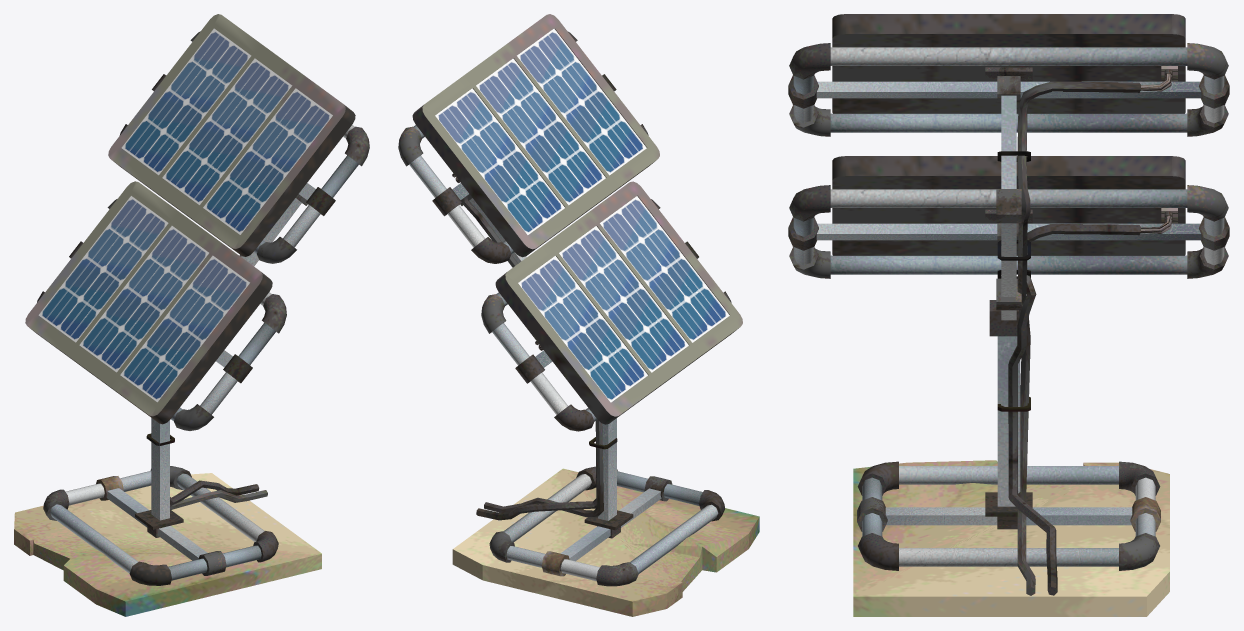
The model's file is solarStation1-2.glb.
3 renders of one model, left to right at view 1: azimuth 30°, elevation 25°; view 2: azimuth 150°, elevation 25°; view 3: azimuth 270°, elevation 25°, orthographic. The views are drawn at different scales.
Parts seen in each view (by area): view 1: solarStation1-2; view 2: solarStation1-2; view 3: solarStation1-2.
Boxes of the visible parts, x1,y1,x2,y2 form: solarStation1-2: [14, 14, 369, 616]; solarStation1-2: [398, 14, 759, 616]; solarStation1-2: [788, 14, 1229, 616].
Size of the model in its own units: 1.15 by 1.98 by 1.29.
1 material, 1 textured.
